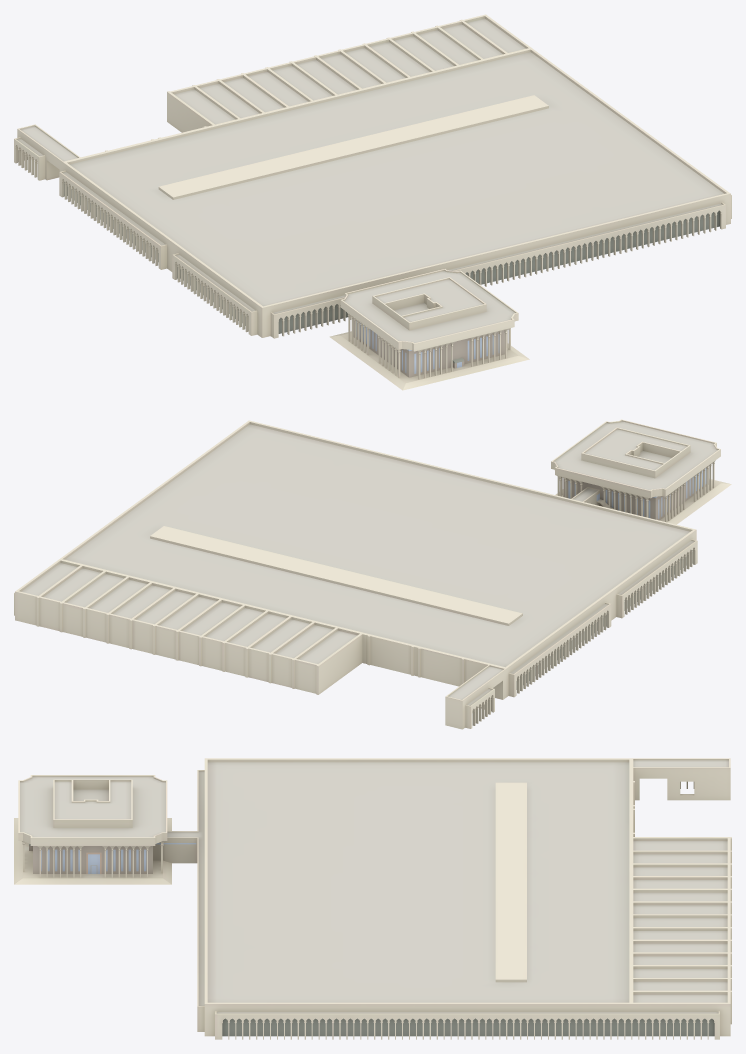
File: kingfahdcomplex1.glb
3 renders of one model, top to bottom at view 1: azimuth 30°, elevation 25°; view 2: azimuth 150°, elevation 25°; view 3: azimuth 270°, elevation 25°, orthographic. The views are drawn at different scales.
Parts seen in each view (by area): view 1: kingfahdcomplex1; view 2: kingfahdcomplex1; view 3: kingfahdcomplex1.
Boxes of the visible parts, x1=… form: kingfahdcomplex1: x1=14, y1=14, x2=731, y2=390; kingfahdcomplex1: x1=14, y1=419, x2=731, y2=729; kingfahdcomplex1: x1=14, y1=758, x2=731, y2=1039.
Size of the model in its own units: 200 by 19.08 by 241.
1 material, 1 textured.
